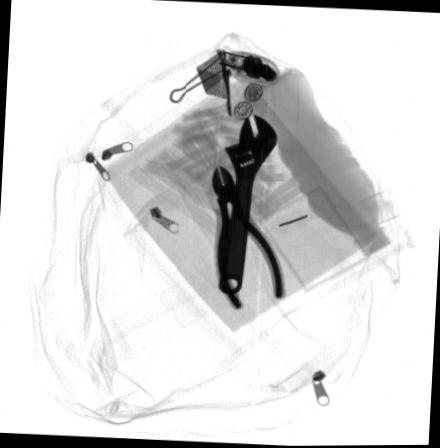Pliers: (209, 161, 286, 309)
Wrench: (219, 113, 279, 294)
